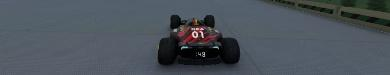Car: (157, 14, 240, 65)
obstacles-Borders: (258, 0, 389, 39)
